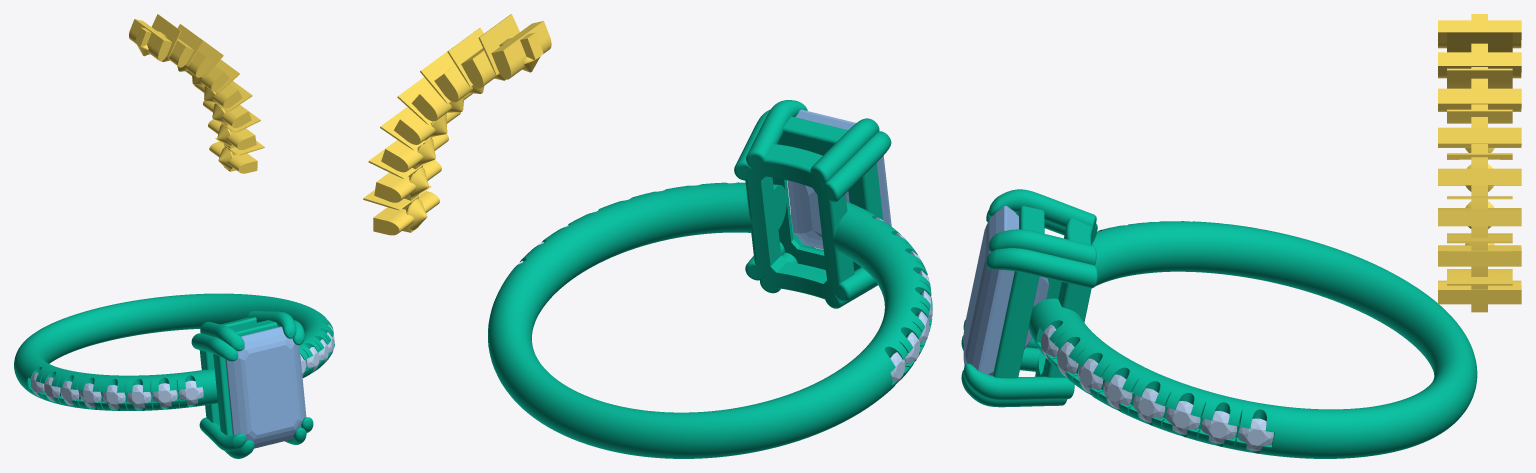
3 views of the same model, side by side, from view 1: azimuth 30°, elevation 25°; view 2: azimuth 150°, elevation 25°; view 3: azimuth 270°, elevation 25° (orthographic). The views are drawn at different scales.
Visible parts, largest first — view 1: VR557 9.8.25(base).3dm, Diamond_Emerald, Micro Pave Cut Channel Cutter (×11), Bezel (×2), Diamond_Round (×5), Channel Cutter; view 2: VR557 9.8.25(base).3dm, Bezel (×2), Micro Pave Cut Channel Cutter (×12), Diamond_Emerald, Channel Cutter; view 3: VR557 9.8.25(base).3dm, Micro Pave Cut Channel Cutter (×13), Bezel (×2), Diamond_Emerald, Diamond_Round (×6), Channel Cutter.
Boxes of the visible parts, x1,y1,x2,y2 form: VR557 9.8.25(base).3dm: (14,293,334,458); Diamond_Emerald: (225,326,306,448); Micro Pave Cut Channel Cutter (×11): (129,14,257,173); Bezel (×2): (199,317,278,435); Diamond_Round (×5): (80,380,203,408); Channel Cutter: (134,27,236,171); VR557 9.8.25(base).3dm: (488,100,932,458); Bezel (×2): (745,116,883,299); Micro Pave Cut Channel Cutter (×12): (373,14,551,235); Diamond_Emerald: (787,109,891,249); Channel Cutter: (402,32,543,232); VR557 9.8.25(base).3dm: (961,189,1477,458); Micro Pave Cut Channel Cutter (×13): (1438,20,1521,304); Bezel (×2): (993,206,1093,378); Diamond_Emerald: (963,206,1048,375); Diamond_Round (×6): (1078,358,1273,450); Channel Cutter: (1471,14,1487,312).
Bounding box in the file's own units: 2.72 × 2.57 × 3.11.
